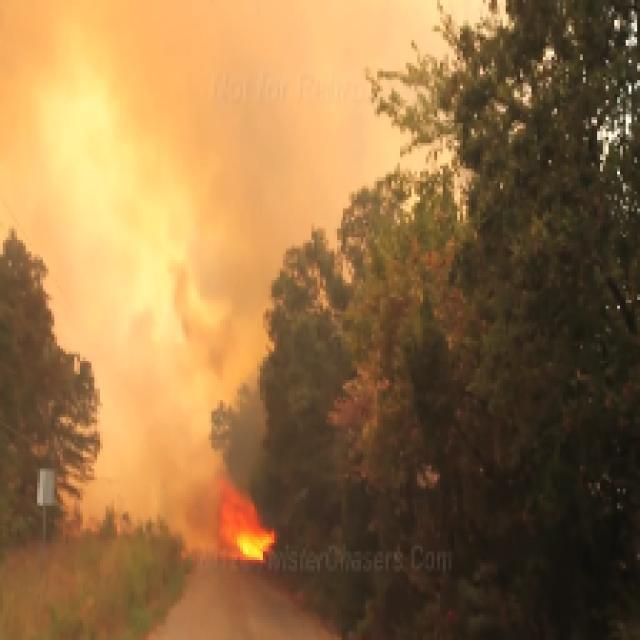Fire: (194, 468, 297, 560)
Smoke: (114, 48, 266, 354)
